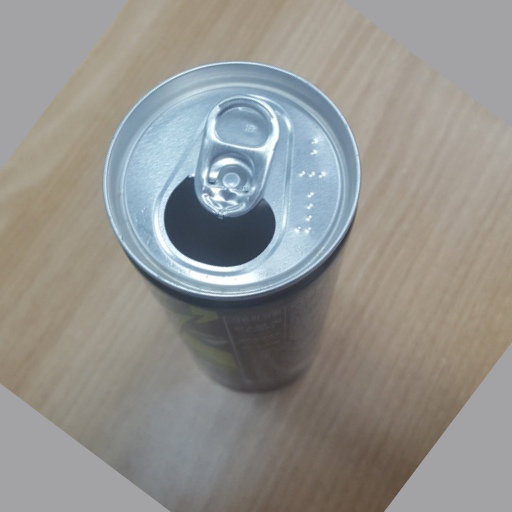Metal_0: (97, 60, 366, 393)
